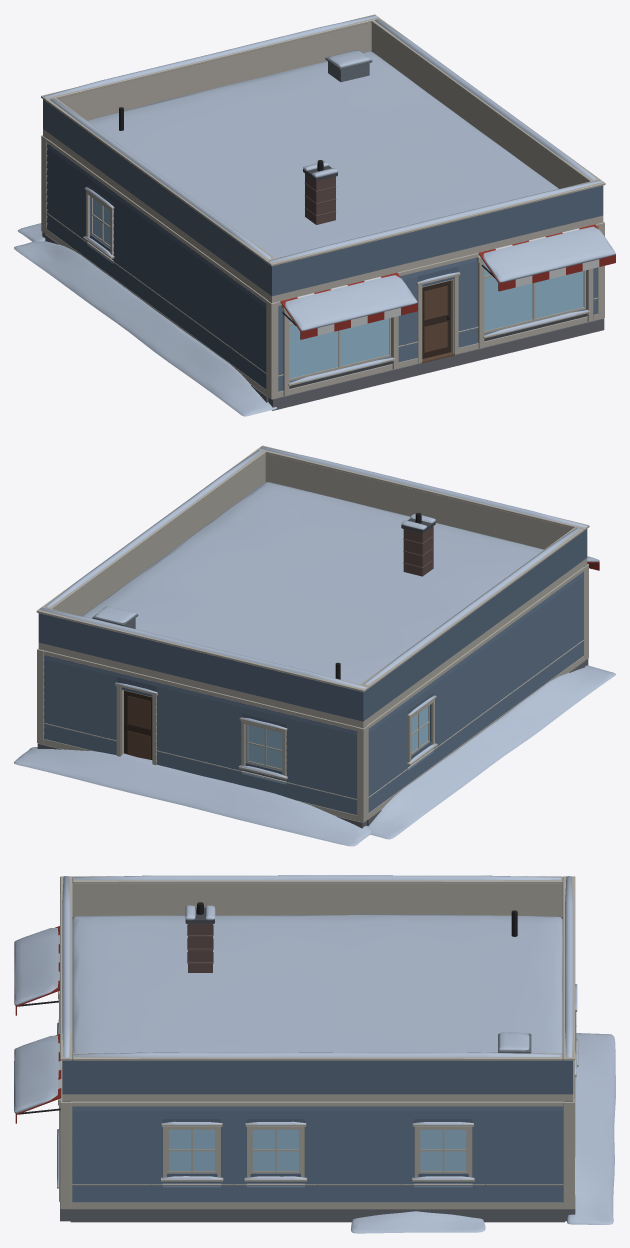
File: shop_general.glb
The picture shows the model from 3 angles, top to bottom: view 1: azimuth 30°, elevation 25°; view 2: azimuth 150°, elevation 25°; view 3: azimuth 270°, elevation 25°; orthographic projection. The views are drawn at different scales.
Visible parts, largest first — view 1: Roof, Walls0_S, Walls0_W, Floor0, Window_1, Window_0, Door_0, Walls0_N, Window_6; view 2: Roof, Walls0_N, Floor0, Walls0_W, Door_1, Window_2, Walls0_N_Stub, Walls0_S, Window_6; view 3: Roof, Walls0_E, Floor0, Walls0_S, Window_5, Window_4, Window_3, Walls0_N, Walls0_E_Stub.
Part boxes in pixels (x1,y1,x2,y2): Roof: [41, 14, 605, 302]; Walls0_S: [266, 222, 615, 399]; Walls0_W: [46, 139, 267, 395]; Floor0: [14, 223, 604, 416]; Window_1: [484, 263, 583, 331]; Window_0: [289, 316, 388, 378]; Door_0: [422, 280, 450, 358]; Walls0_N: [41, 135, 47, 234]; Window_6: [93, 198, 110, 245]; Roof: [36, 445, 589, 728]; Walls0_N: [37, 648, 368, 822]; Floor0: [14, 658, 615, 846]; Walls0_W: [367, 567, 584, 818]; Door_1: [124, 690, 152, 759]; Window_2: [248, 725, 282, 768]; Walls0_N_Stub: [37, 723, 368, 822]; Walls0_S: [583, 556, 599, 660]; Window_6: [411, 706, 428, 752]; Roof: [60, 875, 575, 1101]; Walls0_E: [71, 1101, 564, 1209]; Floor0: [60, 1026, 615, 1233]; Walls0_S: [14, 926, 72, 1209]; Window_5: [420, 1129, 466, 1170]; Window_4: [252, 1129, 298, 1170]; Window_3: [169, 1129, 214, 1170]; Walls0_N: [563, 984, 578, 1209]; Walls0_E_Stub: [72, 1183, 563, 1187].
Size of what is drawn, in the model's own units: 11.88 by 5.2 by 14.37.
